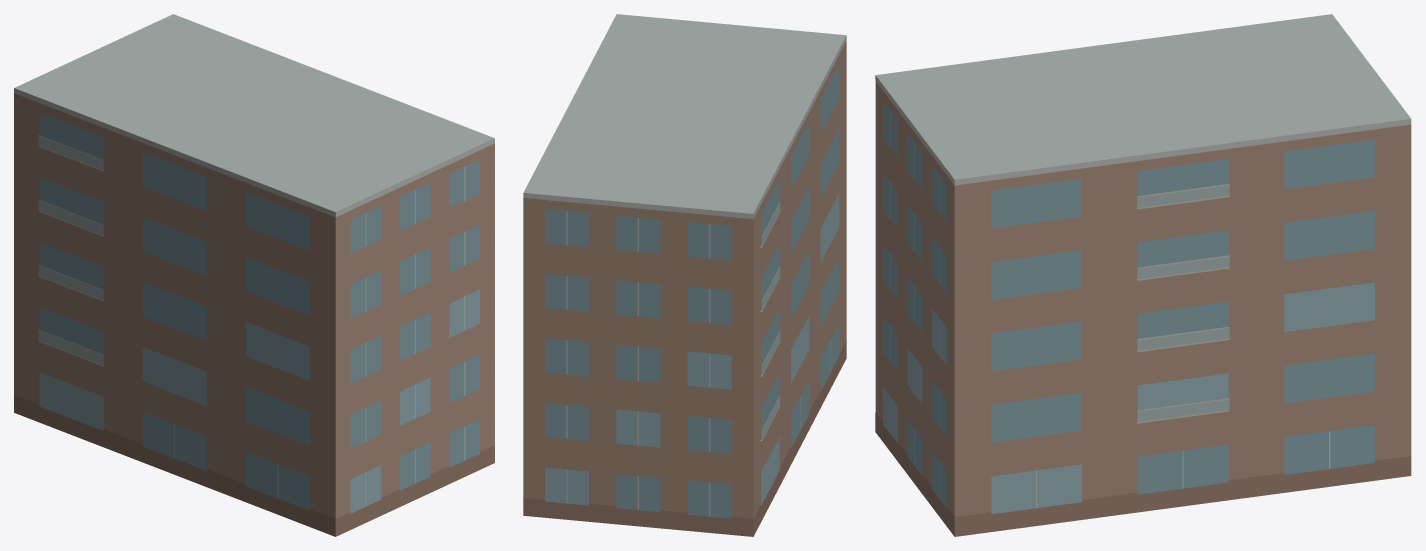
Rendered from survey-upis-32682107.glb.
The picture shows the model from 3 angles, left to right: view 1: azimuth 30°, elevation 25°; view 2: azimuth 150°, elevation 25°; view 3: azimuth 270°, elevation 25°; orthographic projection. The views are drawn at different scales.
Visible parts, largest first — view 1: survey-upis-32682107.tmp; view 2: survey-upis-32682107.tmp; view 3: survey-upis-32682107.tmp.
Part boxes in pixels (x1=…): survey-upis-32682107.tmp: x1=14, y1=14, x2=494, y2=536; survey-upis-32682107.tmp: x1=523, y1=14, x2=846, y2=536; survey-upis-32682107.tmp: x1=875, y1=14, x2=1411, y2=536.
Bounding box in the file's own units: 15.2 × 15.25 × 20.75.
